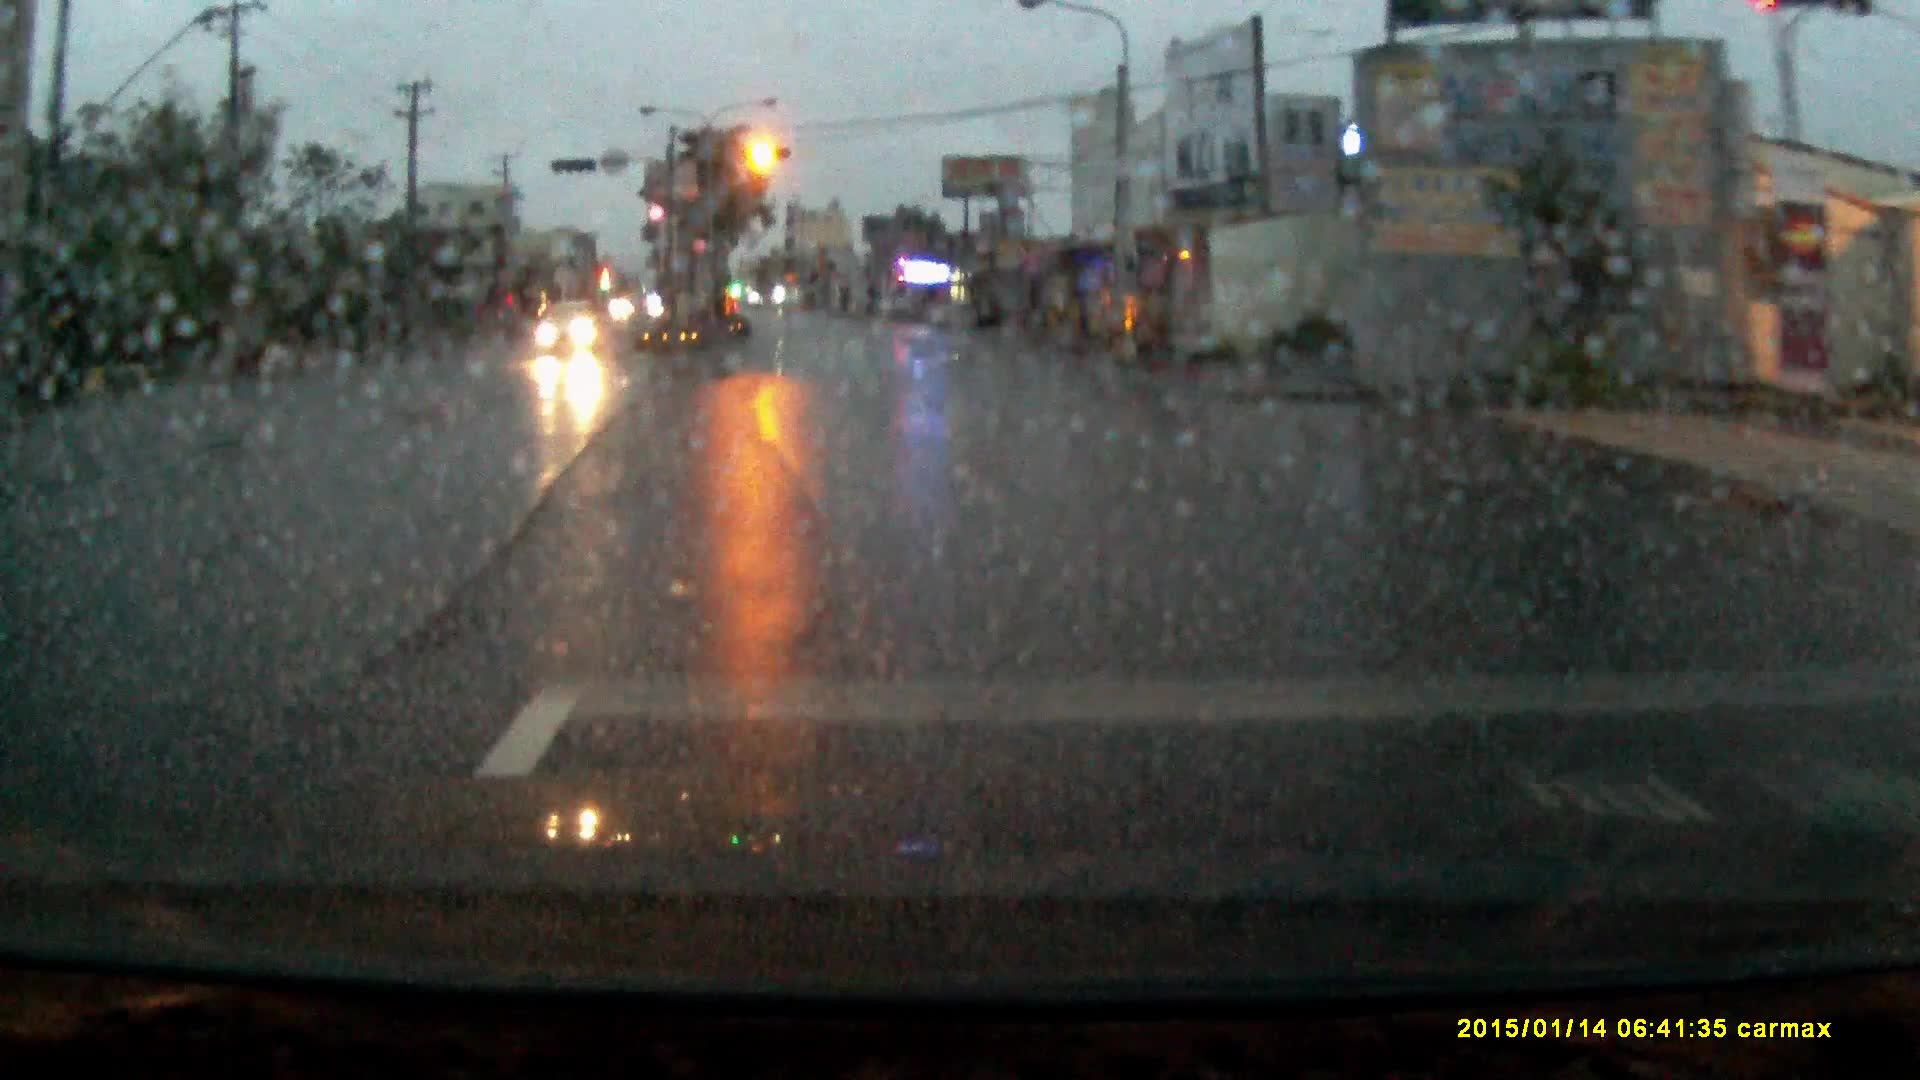vehicle: (533, 303, 608, 360)
